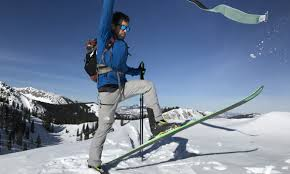skis: (97, 86, 265, 171)
